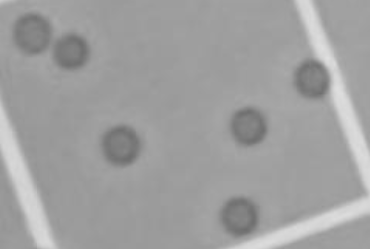cell: (7, 8, 55, 61), (216, 191, 264, 241), (96, 120, 144, 169), (289, 53, 335, 103), (225, 100, 271, 149), (46, 28, 94, 73)
